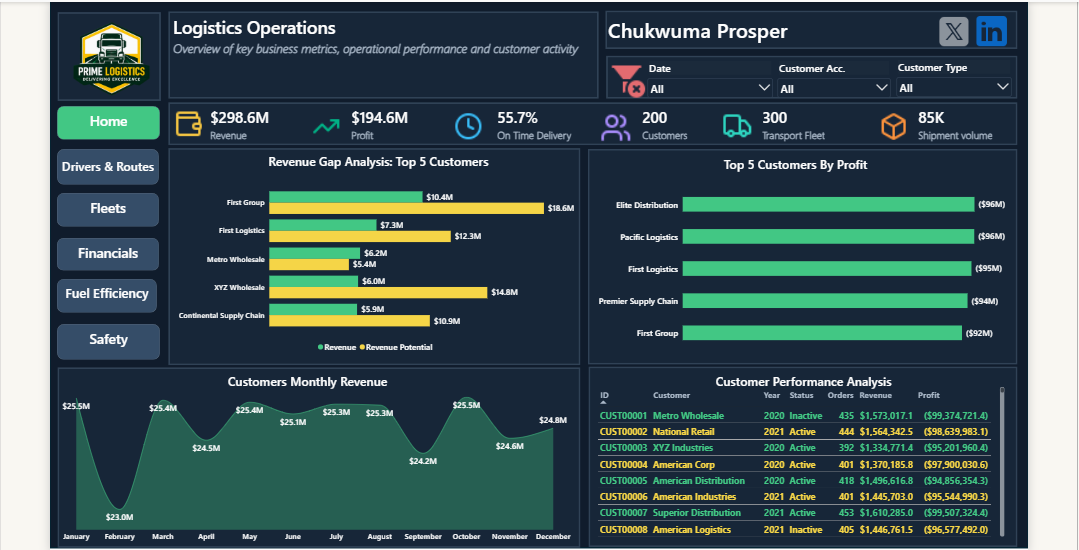

This screenshot's page, from the dashboard's own definition file:
{"tool":"powerbi","page":{"name":"Home","canvas":[1920,1080],"ordinal":0},"visuals":[{"type":"textbox","title":"Logistics Operations","box":[241.5,24.8,834.1,167.2],"z":0},{"type":"cardVisual","fields":{"Data":["loads.Total Revenue"]},"box":[297.3,204.4,208.5,82.6],"z":0,"group":"g7"},{"type":"slicer","fields":{"Values":["loads.load_date.Variation.Date Hierarchy.Year"]},"box":[1168.5,115.6,256,72.3],"z":1000},{"type":"slicer","fields":{"Values":["customers.account_status"]},"box":[1424.5,115.6,231.7,82.5],"z":2000},{"type":"cardVisual","fields":{"Data":["customers.Total Customers"]},"box":[1145.4,204.4,169.3,82.6],"z":2000,"group":"g3"},{"type":"tableEx","title":"Customer Analysis","fields":{"Values":["customers.customer_id","customers.customer_name","customers.contract_start_date.Variation.Date Hierarchy.Year","customers.account_status","loads.Loads","loads.Total Revenue","loads.Profit"]},"box":[1059.1,755.6,832,309.7],"z":3000},{"type":"slicer","fields":{"Values":["customers.customer_type"]},"box":[1657.8,113.5,235.6,78.5],"z":4000},{"type":"cardVisual","fields":{"Data":["delivery_events.Delivery Volume"]},"box":[1688.8,204.4,204.4,82.6],"z":4000,"group":"g1"},{"type":"image","title":"Clear File","box":[1096.3,113.5,72.7,74.6],"z":5000},{"type":"cardVisual","fields":{"Data":["loads.Profit"]},"box":[575.2,204.4,200.3,82.6],"z":5000,"group":"g6"},{"type":"image","box":[1806.5,21.6,84.4,70.7],"z":6000},{"type":"image","box":[1726,23.6,98.2,68.7],"z":7000},{"type":"cardVisual","fields":{"Data":["delivery_events.On-Time Delivery Rate"]},"box":[861.3,204.4,208.5,82.6],"z":8000,"group":"g4"},{"type":"clusteredBarChart","title":"Top Customers: Revenue Gap Analysis","fields":{"Category":["customers.customer_name"],"Y":["loads.Total Revenue","customers.Revenue Potential"]},"box":[235.4,342.5,810.3,366.8],"z":8000},{"type":"actionButton","box":[14.5,375.7,200.3,66.1],"z":9000},{"type":"actionButton","box":[14.5,544.2,196.1,66.1],"z":10000},{"type":"clusteredBarChart","title":"Profit by Customers","fields":{"Category":["customers.customer_name"],"Y":["loads.Profit"]},"box":[1061.2,349.7,832,358.5],"z":11000},{"type":"actionButton","box":[14.5,462.9,200.3,64],"z":12000},{"type":"textbox","title":"Top 5 Customers By Profit","box":[1071.5,299.4,784.4,47.4],"z":13000},{"type":"actionButton","box":[14.5,631.7,202.3,70.2],"z":14000},{"type":"cardVisual","fields":{"Data":["truck_utilization_metrics.Total Fleet"]},"box":[1382,204.4,225,82.6],"z":15000,"group":"g2"},{"type":"actionButton","box":[14.5,287.8,200.3,70.2],"z":15000},{"type":"actionButton","box":[14.5,204.4,202.3,66.1],"z":16000},{"type":"image","box":[511.2,215.6,64,55.8],"z":16000,"group":"g6"},{"type":"textbox","title":"Chukwuma Prosper","box":[1096.3,26.8,491.4,64],"z":17000},{"type":"image","box":[780.8,216.8,80.5,55.7],"z":17000,"group":"g4"},{"type":"group","id":"g1","title":"Group 2","box":[1612.4,204.4,280.8,82.6],"z":18000,"group":"g5"},{"type":"image","box":[1075.2,215.9,70.2,61.9],"z":18000,"group":"g3"},{"type":"textbox","title":"Revenue Gap Analysis: Top 5 Customers","box":[262.2,293.2,763.9,47.5],"z":18000},{"type":"group","id":"g2","title":"Group 3","box":[1320.1,204.4,287,82.6],"z":19000,"group":"g5"},{"type":"image","box":[1612.4,215.9,88.8,57.3],"z":19000,"group":"g1"},{"type":"areaChart","fields":{"Category":["loads.load_date.Variation.Date Hierarchy.Month"],"Y":["loads.Total Revenue"]},"box":[18.6,764.8,1007.5,300.5],"z":19000},{"type":"group","id":"g3","title":"Group 4","box":[1075.2,204.4,239.5,82.6],"z":20000,"group":"g5"},{"type":"image","box":[1320.1,211.7,60.4,61.9],"z":20000,"group":"g2"},{"type":"textbox","title":"Customers Monthly Revenue","box":[101.1,724.6,811.5,39.9],"z":20000},{"type":"group","id":"g4","title":"Group 5","box":[780.8,204.4,289,82.6],"z":21000,"group":"g5"},{"type":"textbox","title":"Customer Performance Analysis","box":[1110.7,724.6,737,37.2],"z":21000},{"type":"group","id":"g5","title":"Group 11","box":[235.4,204.4,1657.8,82.6],"z":22000},{"type":"group","id":"g6","title":"Group 6","box":[511.2,204.4,264.3,82.6],"z":22000,"group":"g5"},{"type":"image","box":[18.6,24.8,196.1,167.2],"z":23000},{"type":"group","id":"g7","title":"Group 7","box":[235.4,204.4,270.5,82.6],"z":23000,"group":"g5"},{"type":"image","box":[235.4,211.1,72.3,58],"z":24000,"group":"g7"}]}

Visuals, with their boxes on the page's 1920x1080 design canvas (x1, y1, x2, y2). These are canvas units, not pixel positions in the 1079x550 screenshot, which may show the page scaled, cropped or inside an application window:
"Logistics Operations" textbox: pyautogui.locateOnScreen(242, 25, 1076, 192)
cardVisual - loads.Total Revenue: pyautogui.locateOnScreen(297, 204, 506, 287)
slicer - loads.load_date.Variation.Date Hierarchy.Year: pyautogui.locateOnScreen(1168, 116, 1424, 188)
slicer - customers.account_status: pyautogui.locateOnScreen(1424, 116, 1656, 198)
cardVisual - customers.Total Customers: pyautogui.locateOnScreen(1145, 204, 1315, 287)
"Customer Analysis" tableEx: pyautogui.locateOnScreen(1059, 756, 1891, 1065)
slicer - customers.customer_type: pyautogui.locateOnScreen(1658, 114, 1893, 192)
cardVisual - delivery_events.Delivery Volume: pyautogui.locateOnScreen(1689, 204, 1893, 287)
"Clear File" image: pyautogui.locateOnScreen(1096, 114, 1169, 188)
cardVisual - loads.Profit: pyautogui.locateOnScreen(575, 204, 776, 287)
image: pyautogui.locateOnScreen(1806, 22, 1891, 92)
image: pyautogui.locateOnScreen(1726, 24, 1824, 92)
cardVisual - delivery_events.On-Time Delivery Rate: pyautogui.locateOnScreen(861, 204, 1070, 287)
"Top Customers: Revenue Gap Analysis" clusteredBarChart: pyautogui.locateOnScreen(235, 342, 1046, 709)
actionButton: pyautogui.locateOnScreen(14, 376, 215, 442)
actionButton: pyautogui.locateOnScreen(14, 544, 211, 610)
"Profit by Customers" clusteredBarChart: pyautogui.locateOnScreen(1061, 350, 1893, 708)
actionButton: pyautogui.locateOnScreen(14, 463, 215, 527)
"Top 5 Customers By Profit" textbox: pyautogui.locateOnScreen(1072, 299, 1856, 347)
actionButton: pyautogui.locateOnScreen(14, 632, 217, 702)
cardVisual - truck_utilization_metrics.Total Fleet: pyautogui.locateOnScreen(1382, 204, 1607, 287)
actionButton: pyautogui.locateOnScreen(14, 288, 215, 358)
actionButton: pyautogui.locateOnScreen(14, 204, 217, 270)
image: pyautogui.locateOnScreen(511, 216, 575, 271)
"Chukwuma Prosper" textbox: pyautogui.locateOnScreen(1096, 27, 1588, 91)
image: pyautogui.locateOnScreen(781, 217, 861, 272)
"Group 2" group: pyautogui.locateOnScreen(1612, 204, 1893, 287)
image: pyautogui.locateOnScreen(1075, 216, 1145, 278)
"Revenue Gap Analysis: Top 5 Customers" textbox: pyautogui.locateOnScreen(262, 293, 1026, 341)
"Group 3" group: pyautogui.locateOnScreen(1320, 204, 1607, 287)
image: pyautogui.locateOnScreen(1612, 216, 1701, 273)
areaChart - loads.load_date.Variation.Date Hierarchy.Month x loads.Total Revenue: pyautogui.locateOnScreen(19, 765, 1026, 1065)
"Group 4" group: pyautogui.locateOnScreen(1075, 204, 1315, 287)
image: pyautogui.locateOnScreen(1320, 212, 1380, 274)
"Customers Monthly Revenue" textbox: pyautogui.locateOnScreen(101, 725, 913, 764)
"Group 5" group: pyautogui.locateOnScreen(781, 204, 1070, 287)
"Customer Performance Analysis" textbox: pyautogui.locateOnScreen(1111, 725, 1848, 762)
"Group 11" group: pyautogui.locateOnScreen(235, 204, 1893, 287)
"Group 6" group: pyautogui.locateOnScreen(511, 204, 776, 287)
image: pyautogui.locateOnScreen(19, 25, 215, 192)
"Group 7" group: pyautogui.locateOnScreen(235, 204, 506, 287)
image: pyautogui.locateOnScreen(235, 211, 308, 269)
